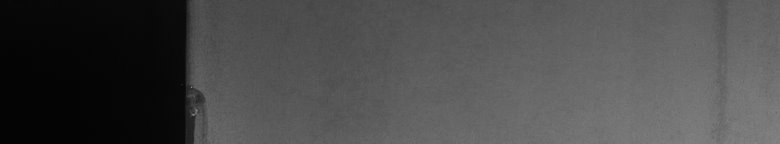hb: (196, 82, 212, 136)
